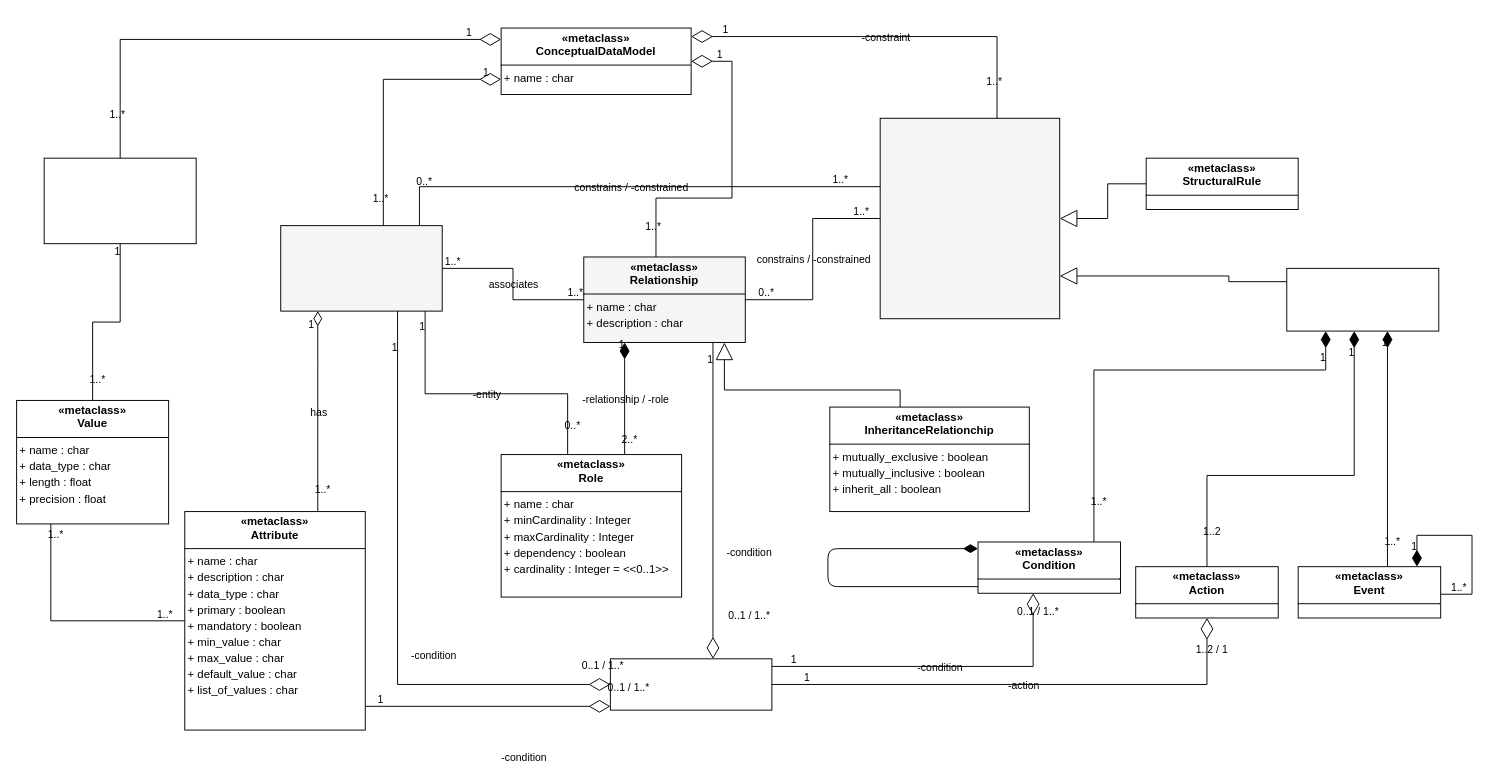
Some shapes in this 1505 by 780 pixel diagram are drawn without their labels. Here are the shapes that lost their labels. From the top down, the centre of each, then its label:
At pixel 119 200: "«metaclass» Domain + name : char + description : char".
At pixel 969 218: "«metaclass» AppDomRule + name : char + description : char + content : char".
At pixel 361 268: "«metaclass» Entity + name : char + description : char".
At pixel 1362 299: "«metaclass» DynamicRule (ECA rule)".
At pixel 690 684: "«metaclass» RuleClause".
